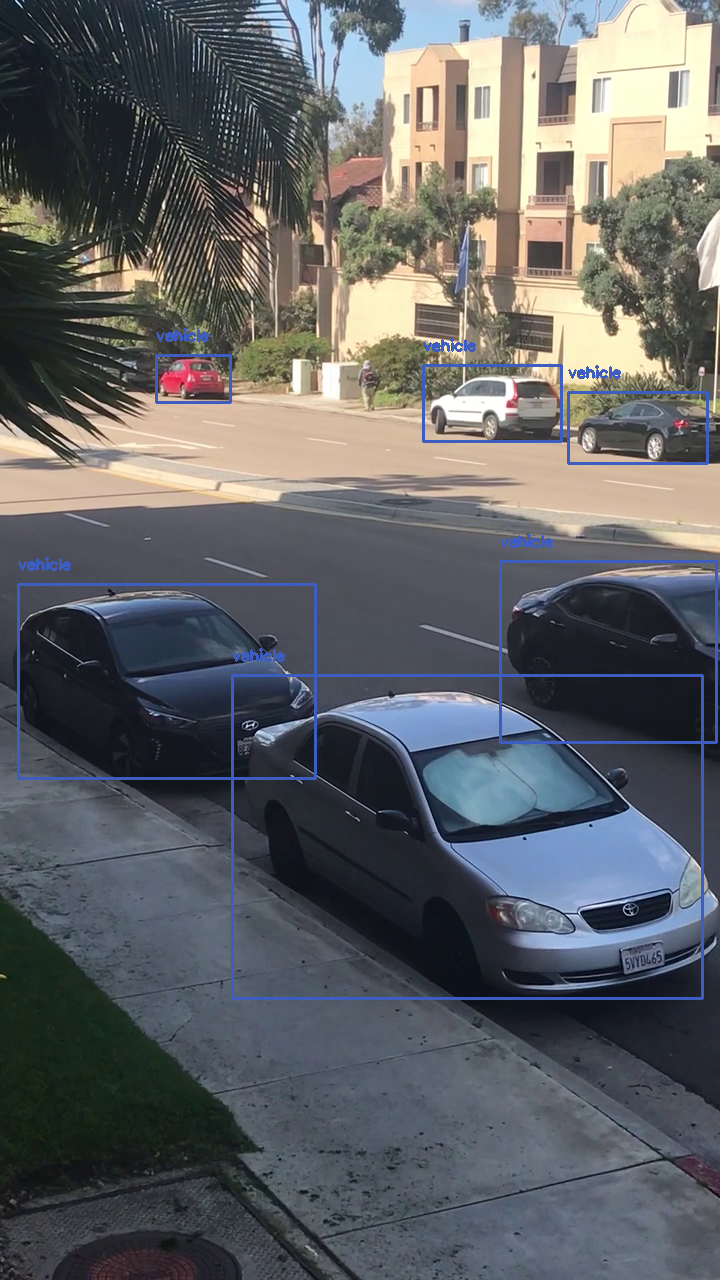vehicle: (232, 675, 702, 998), (18, 584, 315, 778), (500, 561, 716, 742), (423, 365, 561, 441), (568, 392, 707, 463), (156, 355, 230, 402)
